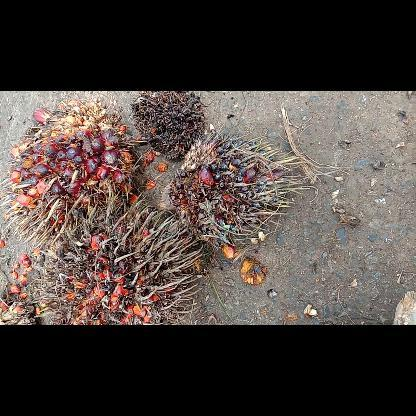TBS abnormal: (165, 130, 305, 260), (130, 92, 209, 166)
TBS masak: (8, 100, 148, 230)
Terlalu masak: (39, 196, 203, 324)
